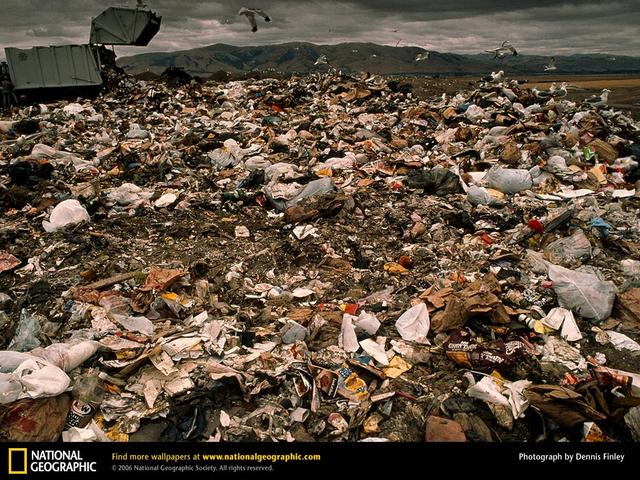garbage: (23, 110, 601, 411)
